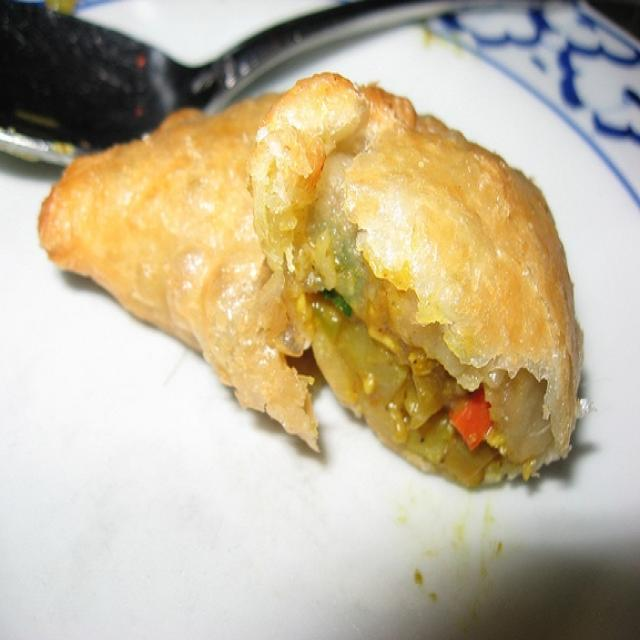炸货点心: (25, 42, 598, 546)
